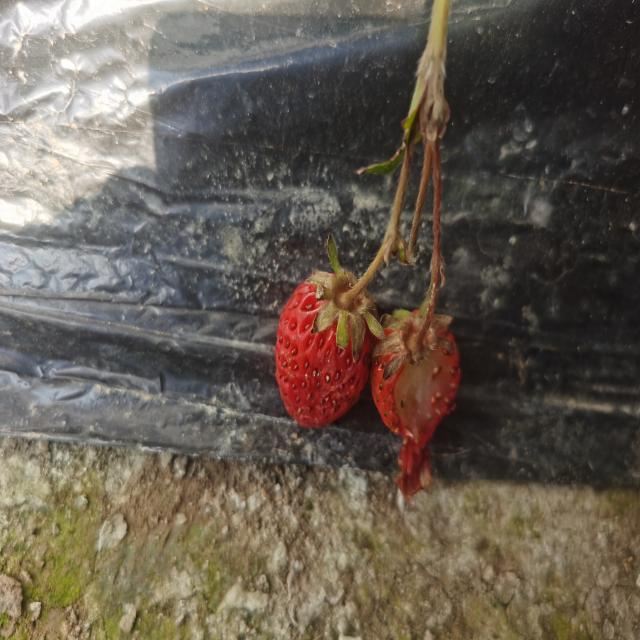stem: (339, 255, 383, 311), (412, 274, 439, 350)
strawberry: (276, 272, 375, 427), (371, 311, 460, 440)
